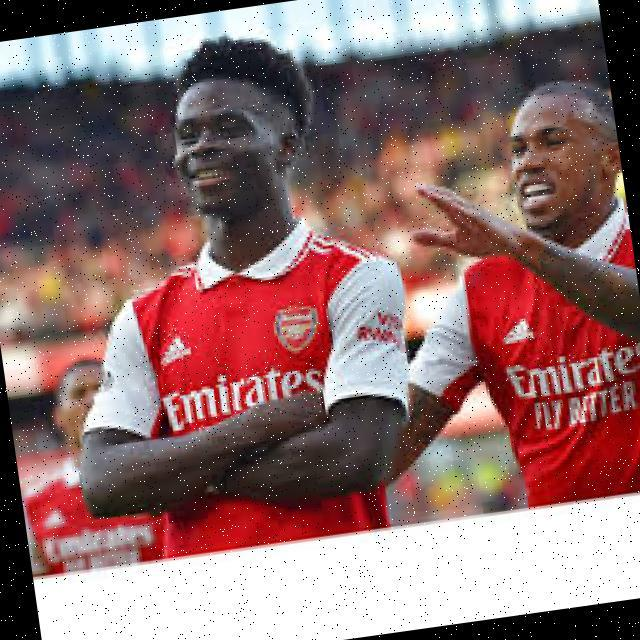Adidas: (501, 314, 538, 347)
Emirates: (160, 360, 328, 434), (499, 339, 640, 399), (154, 326, 192, 364)
